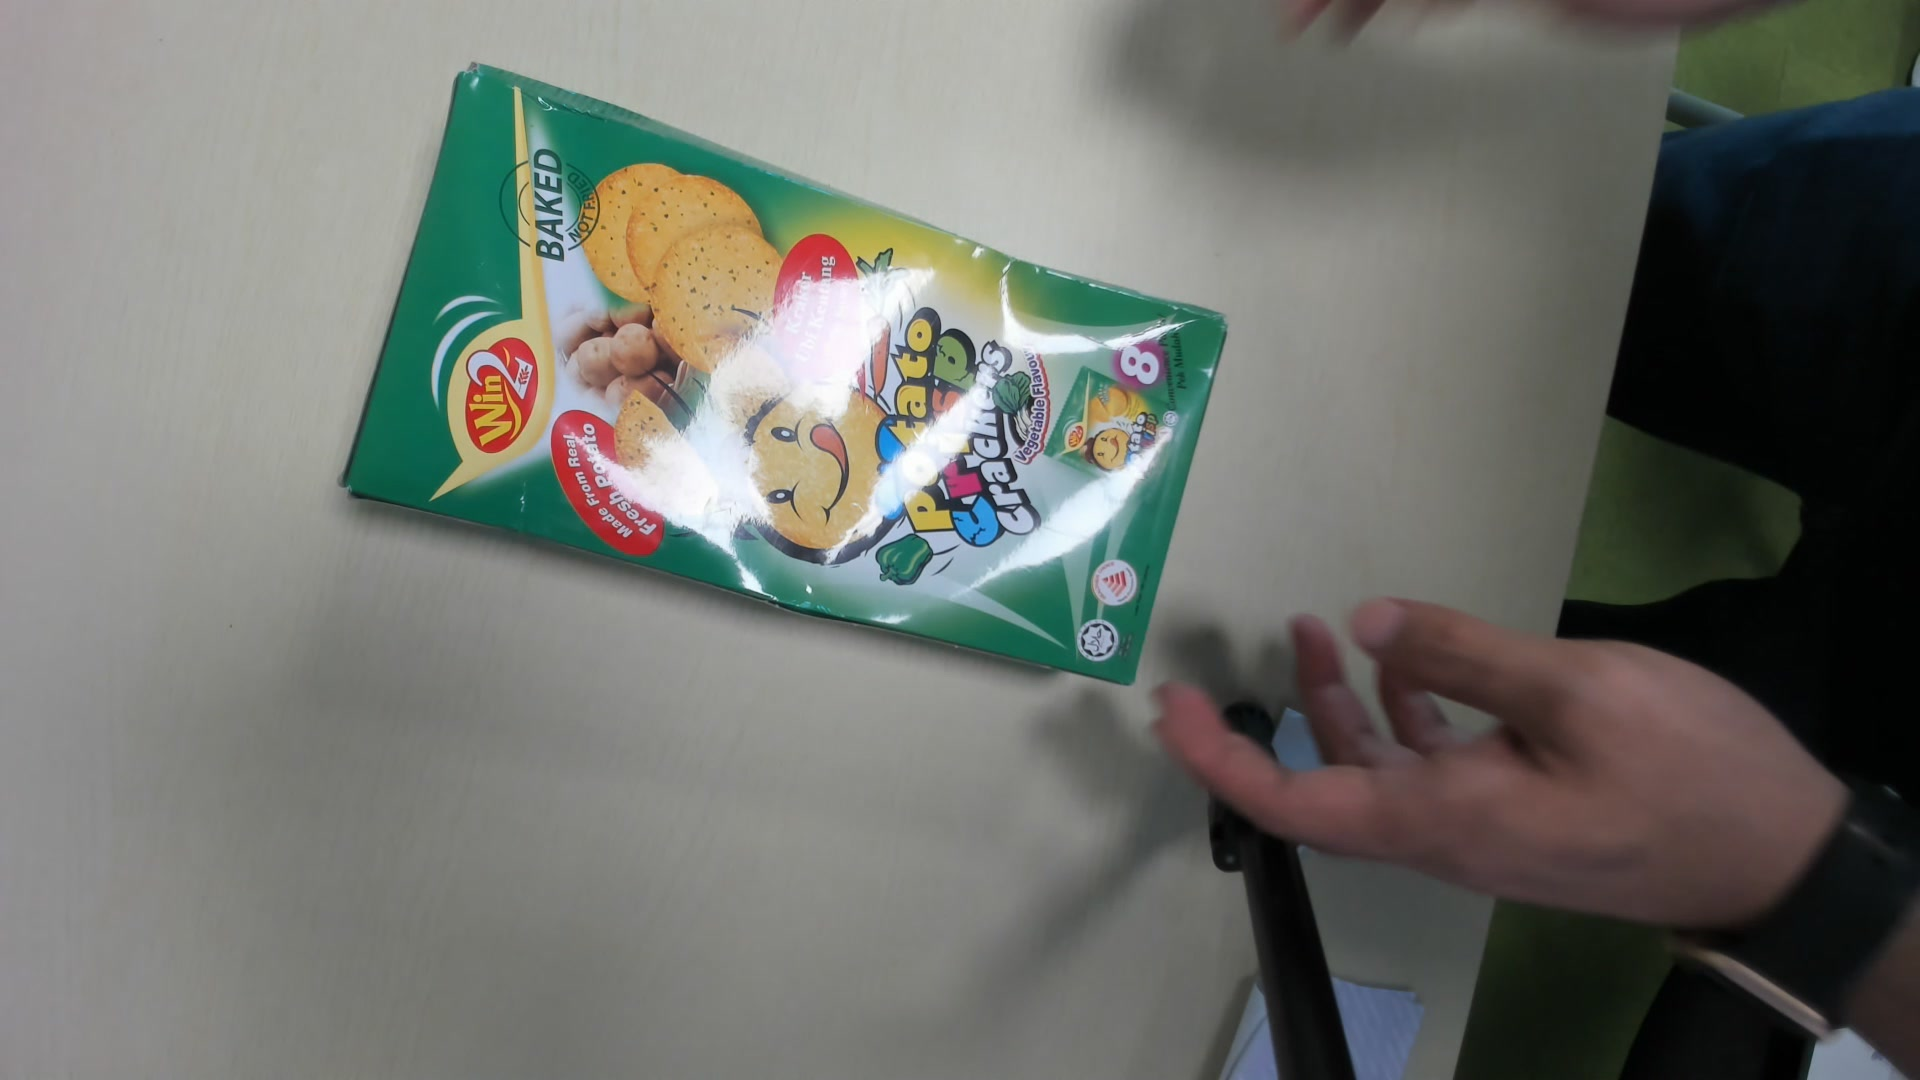PotatoChipsKeropok_100-200g_Halal_Healthy: (342, 63, 1240, 703)
